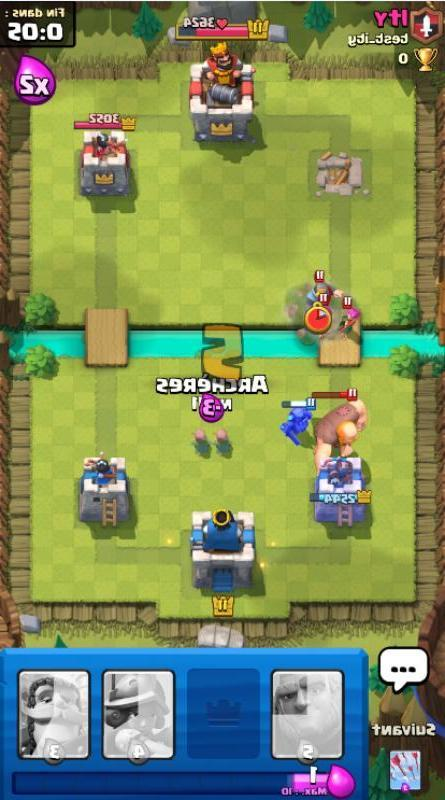enemy_archers: (338, 298, 362, 329)
player_giant: (311, 389, 371, 479)
player_knight: (303, 272, 347, 304)
player_mini_pekka: (277, 398, 316, 450)
